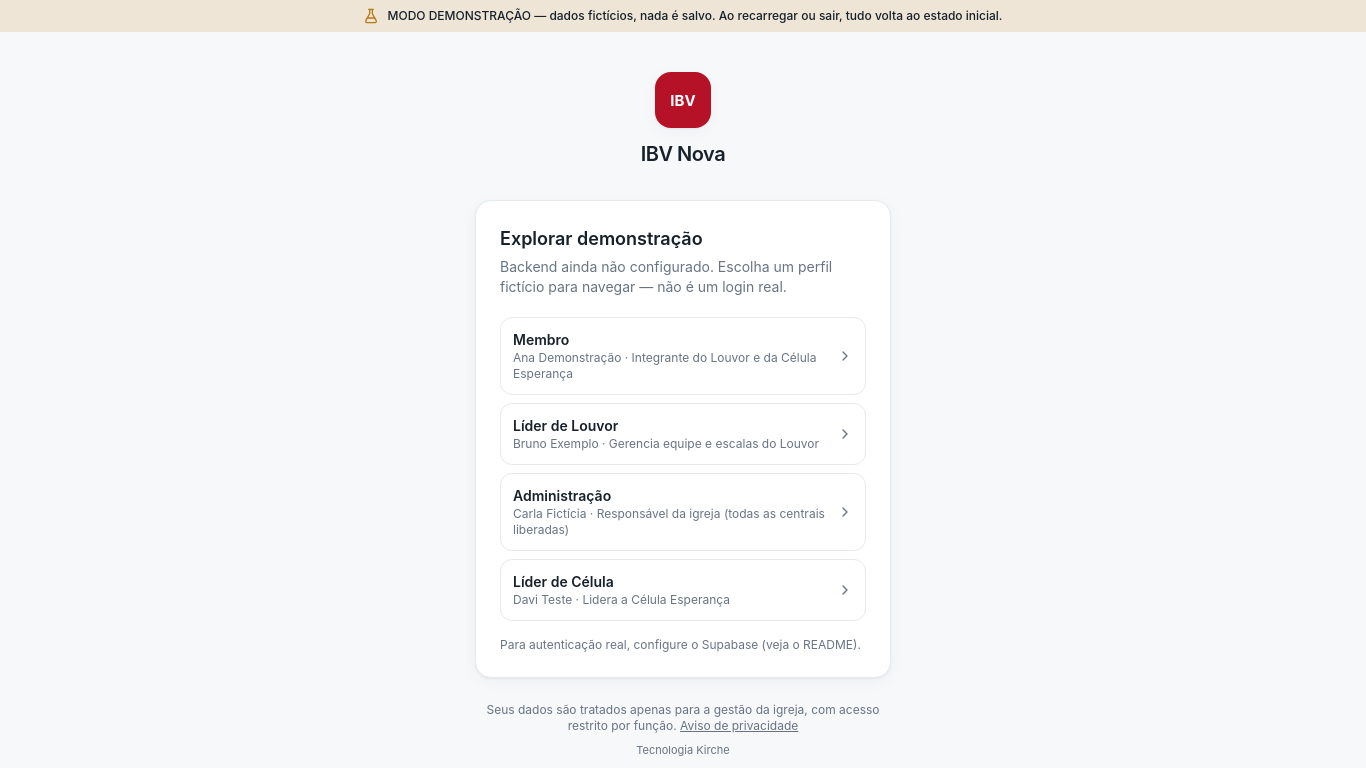
interface por perfil (modo demonstração) › membro comum não vê a Central de Gestão
Click the button "Membro" at (683, 356), box x1=500 y1=317 x2=866 y2=395
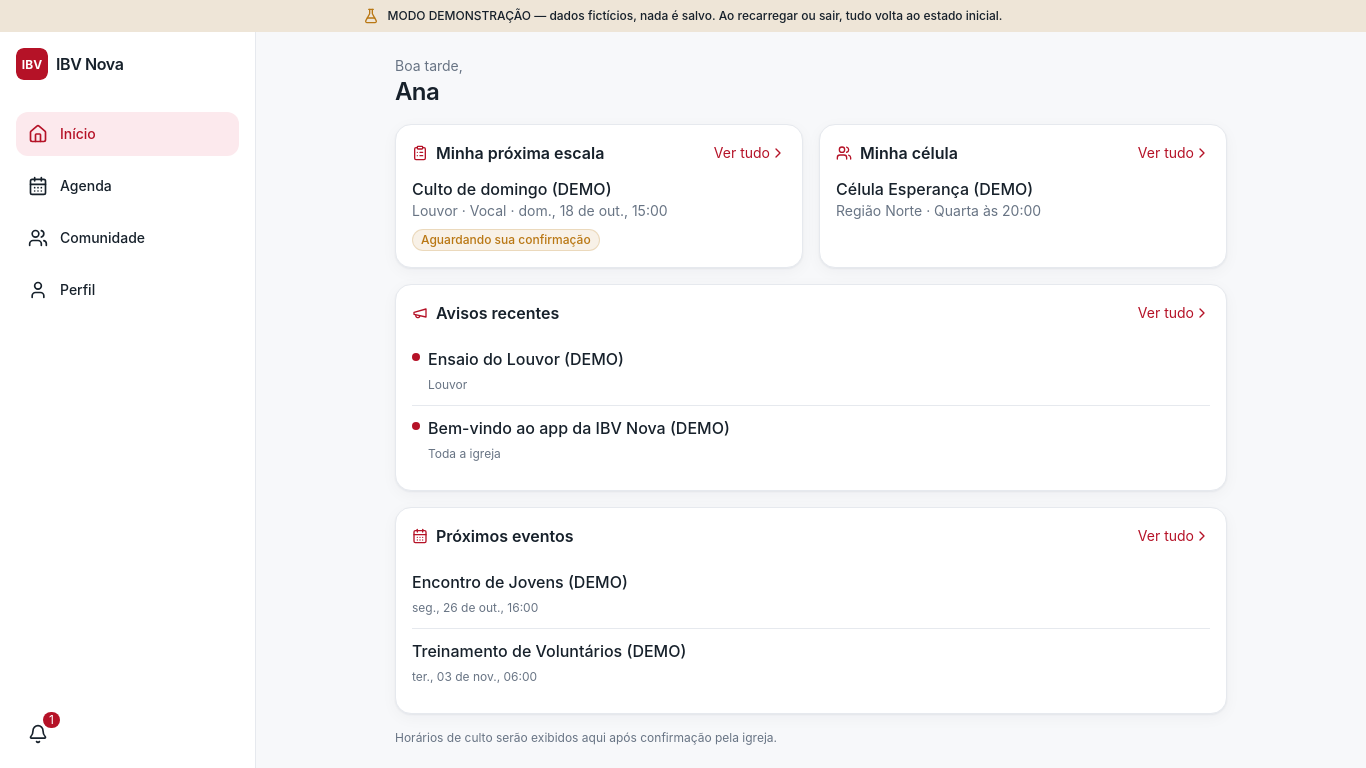
Now the heading "Avisos recentes" is shown, box x1=412 y1=301 x2=559 y2=325
